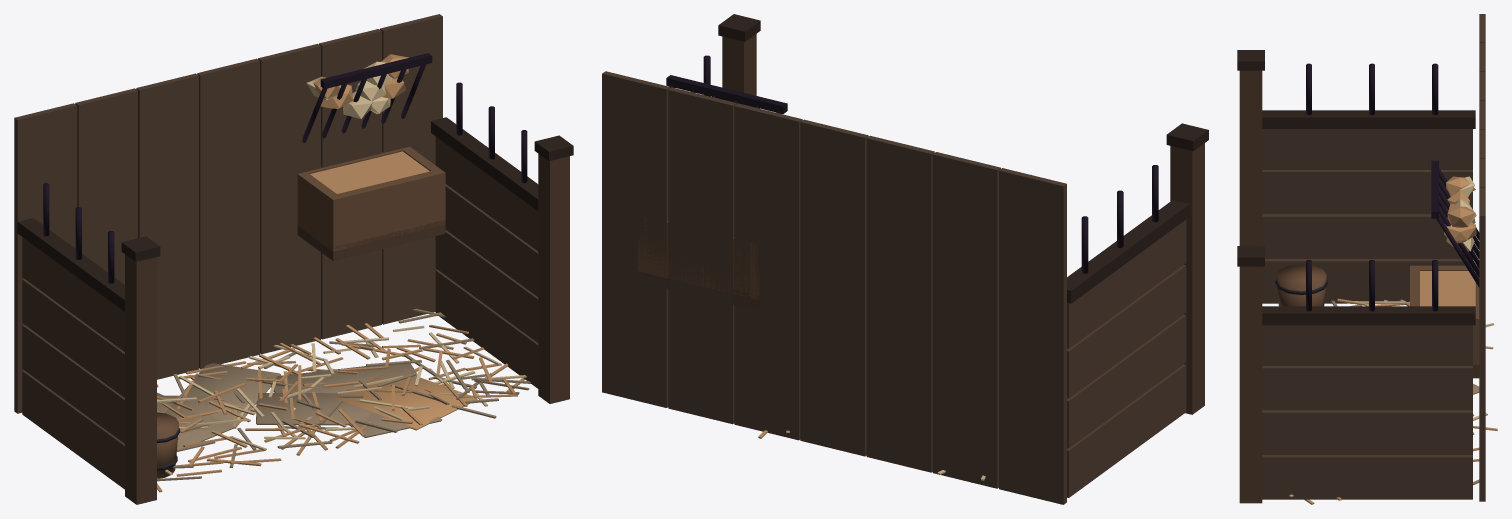
File: stall.glb
The picture shows the model from 3 angles, left to right: view 1: azimuth 30°, elevation 25°; view 2: azimuth 150°, elevation 25°; view 3: azimuth 270°, elevation 25°; orthographic projection. The views are drawn at different scales.
Parts seen in each view (by area): view 1: stall; view 2: stall; view 3: stall.
Part boxes in pixels (box(x1,y1,x2,y2)): stall: box(14, 14, 573, 504); stall: box(602, 14, 1208, 504); stall: box(1237, 14, 1497, 504).
Bounding box in the file's own units: 1.95 × 1.26 × 1.03.
